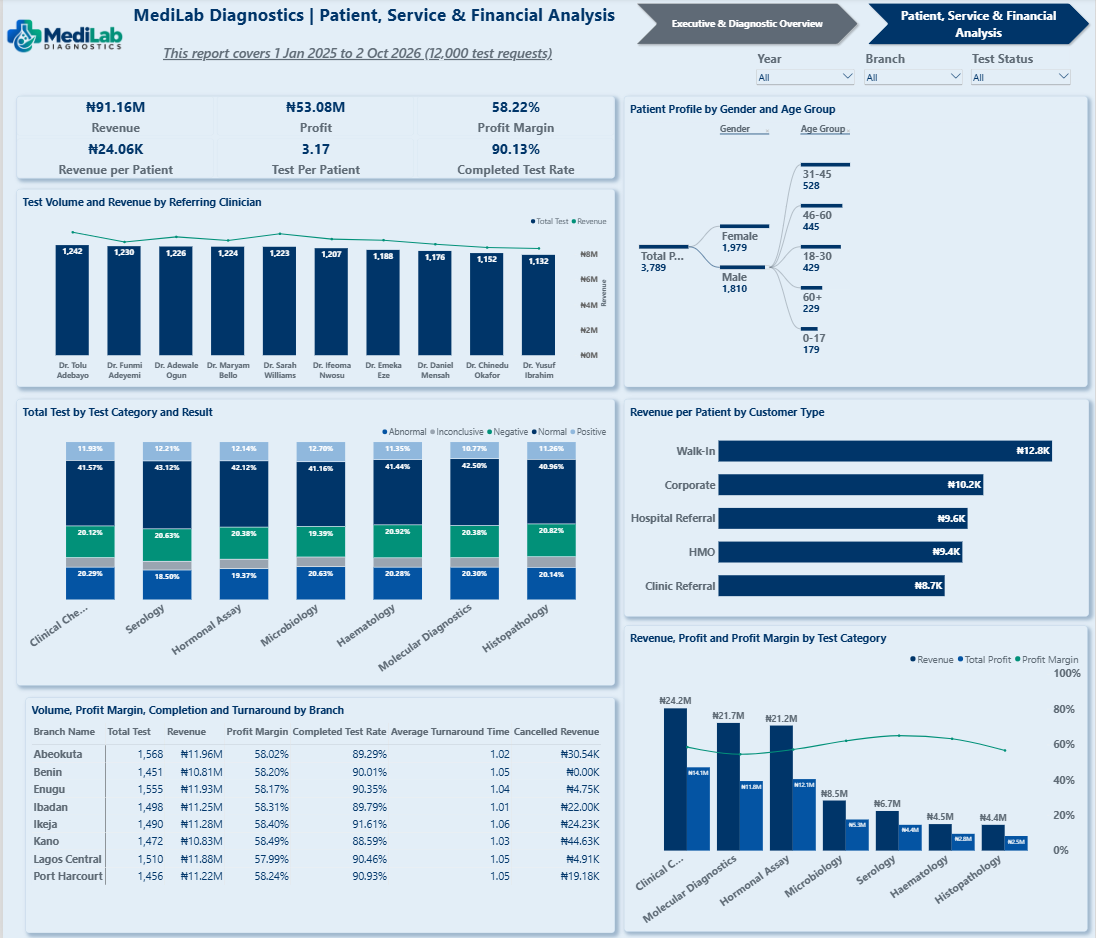

This screenshot's page, from the dashboard's own definition file:
{"tool":"powerbi","page":{"name":"Patient, Service & Financial Analysis","canvas":[3000,2600],"ordinal":1},"visuals":[{"type":"cardVisual","fields":{"Data":["Calculated KPIs.Revenue","Calculated KPIs.Total Profit","Calculated KPIs.Profit Margin","Calculated KPIs.Revenue per Patient","Calculated KPIs.Test Per Patient","Calculated KPIs.Completed Test Rate"]},"box":[37.1,272.1,1645,226.7],"z":0},{"type":"pageNavigator","box":[1731.5,8.2,1265.7,131.9],"z":1000},{"type":"slicer","fields":{"Values":["DimCalendar.Year"]},"box":[2066.6,133.5,279.9,137.8],"z":2000},{"type":"slicer","fields":{"Values":["FactTestRequest.Test Status"]},"box":[2656.5,133.5,284.2,137.8],"z":3000},{"type":"textbox","box":[342.2,0,1364.6,148.4],"z":4000},{"type":"image","box":[0,0,340.1,211],"z":5000},{"type":"cardVisual","fields":{"Data":["Calculated KPIs.Report Period"]},"box":[340.1,94.7,1265.8,116.2],"z":6000},{"type":"slicer","fields":{"Values":["DimBranch.Branch Name"]},"box":[2363.7,133.5,279.9,137.8],"z":7000},{"type":"lineClusteredColumnComboChart","title":"Test Volume and Revenue by Referring Clinician","fields":{"Category":["DimReferringClinician.Referring Clinician"],"Y":["Calculated KPIs.Total Test"],"Y2":["Calculated KPIs.Revenue"]},"box":[37.1,527.7,1645,544.2],"z":8000},{"type":"clusteredBarChart","fields":{"Category":["FactTestRequest.Customer Type"],"Y":["Calculated KPIs.Revenue per Patient"]},"box":[1706.8,1104.9,1278,597.8],"z":9000},{"type":"decompositionTreeVisual","title":"Patient Profile by Gender and Age Group","fields":{"Analyze":["Calculated KPIs.Total Patient"],"ExplainBy":["DimPatient.Gender","DimPatient.Age Group"]},"box":[1706.8,272.1,1273.9,799.8],"z":10000},{"type":"lineClusteredColumnComboChart","title":"Revenue, Profit and Profit Margin by Test Category","fields":{"Category":["DimTest.Test Category"],"Y":["Calculated KPIs.Revenue","Calculated KPIs.Total Profit"],"Y2":["Calculated KPIs.Profit Margin"]},"box":[1706.8,1727.4,1273.9,841],"z":11000},{"type":"pivotTable","title":"Volume, Profit Margin, Completion and Turnaround by Branch","fields":{"Rows":["DimBranch.Branch Name"],"Values":["Calculated KPIs.Total Test","Calculated KPIs.Revenue","Calculated KPIs.Profit Margin","Calculated KPIs.Completed Test Rate","Calculated KPIs.Average Turnaround Time","Calculated KPIs.Cancelled Revenue"]},"box":[61.8,1925.3,1620.2,647.3],"z":12000},{"type":"hundredPercentStackedColumnChart","fields":{"Category":["DimTest.Test Category"],"Series":["FactTestRequest.Result"],"Y":["Calculated KPIs.Total Test"]},"box":[37.1,1104.9,1645,787.4],"z":13000}]}

Visuals, with their boxes in screenshot pixels (x1, y1, x2, y2), scaled from the page's 3000x2600 canvas onto the 1096x938 screenshot:
cardVisual - Calculated KPIs.Revenue x Calculated KPIs.Total Profit: locate(14, 98, 615, 180)
pageNavigator: locate(633, 3, 1095, 51)
slicer - DimCalendar.Year: locate(755, 48, 857, 98)
slicer - FactTestRequest.Test Status: locate(971, 48, 1074, 98)
textbox: locate(125, 0, 624, 54)
image: locate(0, 0, 124, 76)
cardVisual - Calculated KPIs.Report Period: locate(124, 34, 587, 76)
slicer - DimBranch.Branch Name: locate(864, 48, 966, 98)
"Test Volume and Revenue by Referring Clinician" lineClusteredColumnComboChart: locate(14, 190, 615, 387)
clusteredBarChart - FactTestRequest.Customer Type x Calculated KPIs.Revenue per Patient: locate(624, 399, 1090, 614)
"Patient Profile by Gender and Age Group" decompositionTreeVisual: locate(624, 98, 1089, 387)
"Revenue, Profit and Profit Margin by Test Category" lineClusteredColumnComboChart: locate(624, 623, 1089, 927)
"Volume, Profit Margin, Completion and Turnaround by Branch" pivotTable: locate(23, 695, 614, 928)
hundredPercentStackedColumnChart - DimTest.Test Category x FactTestRequest.Result: locate(14, 399, 615, 683)
